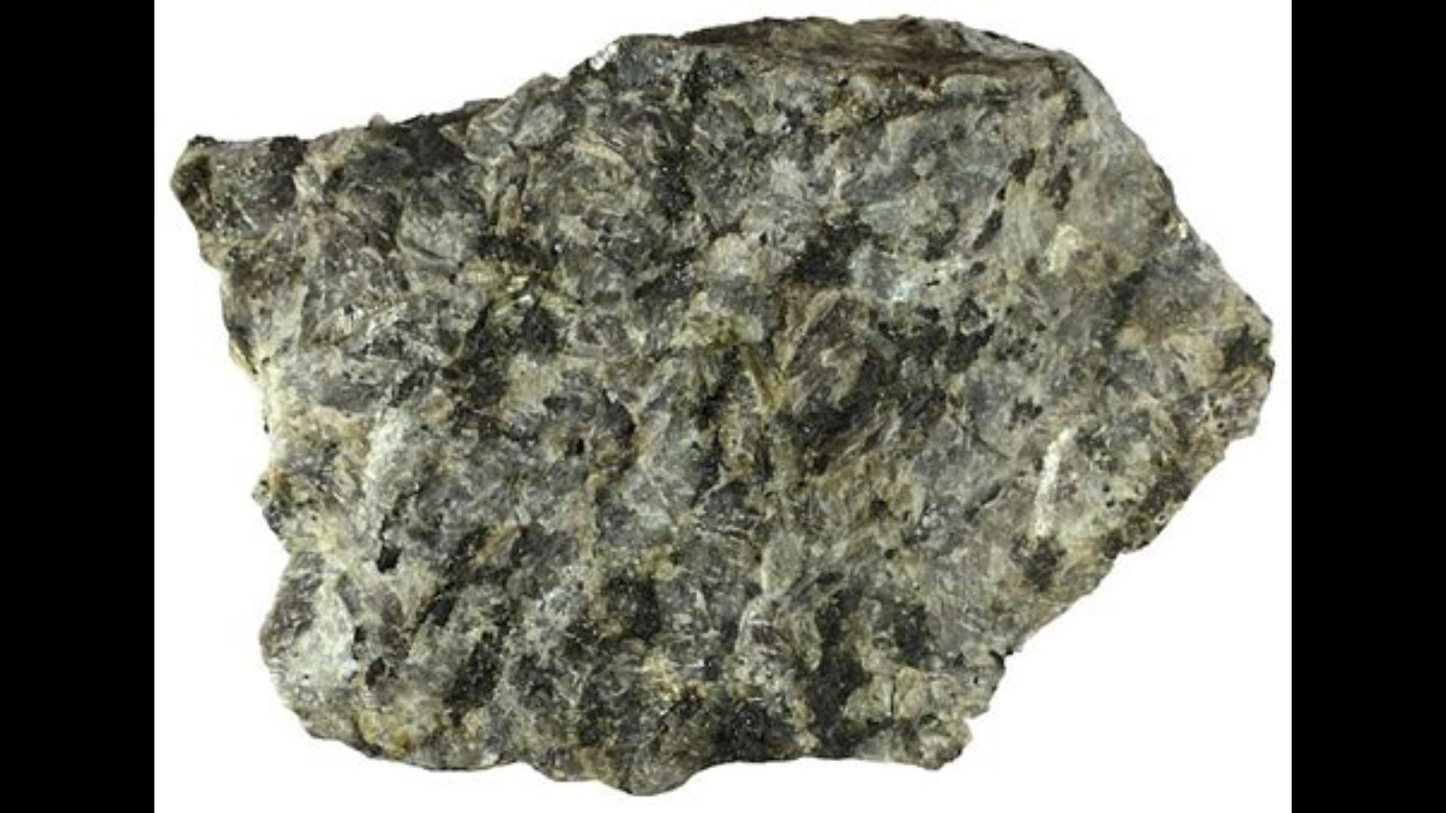rock: (174, 22, 1265, 789)
